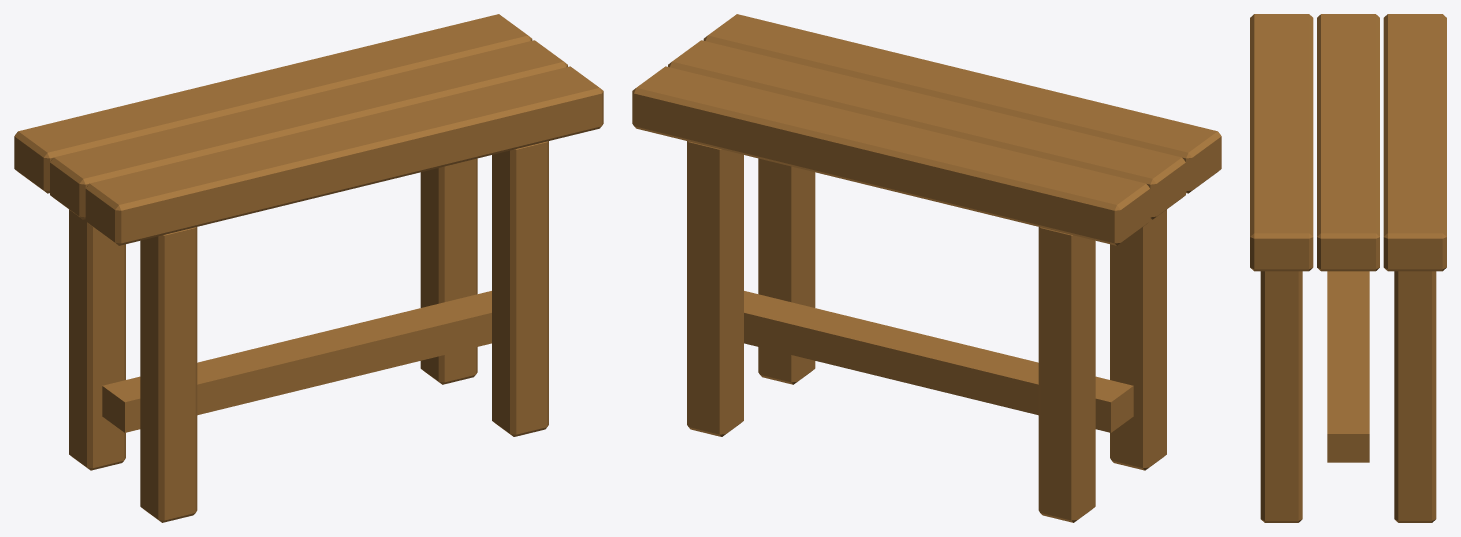
Rendered from WorkBench.fbx.
3 renders of one model, left to right at view 1: azimuth 30°, elevation 25°; view 2: azimuth 150°, elevation 25°; view 3: azimuth 270°, elevation 25°, orthographic. The views are drawn at different scales.
Visible parts, largest first — view 1: WorkBench_Export; view 2: WorkBench_Export; view 3: WorkBench_Export.
Boxes of the visible parts, <box> form: WorkBench_Export: <box>14,14,603,522</box>; WorkBench_Export: <box>632,14,1221,522</box>; WorkBench_Export: <box>1250,14,1446,522</box>.
Bounding box in the file's own units: 1.5 × 0.98 × 0.56.
